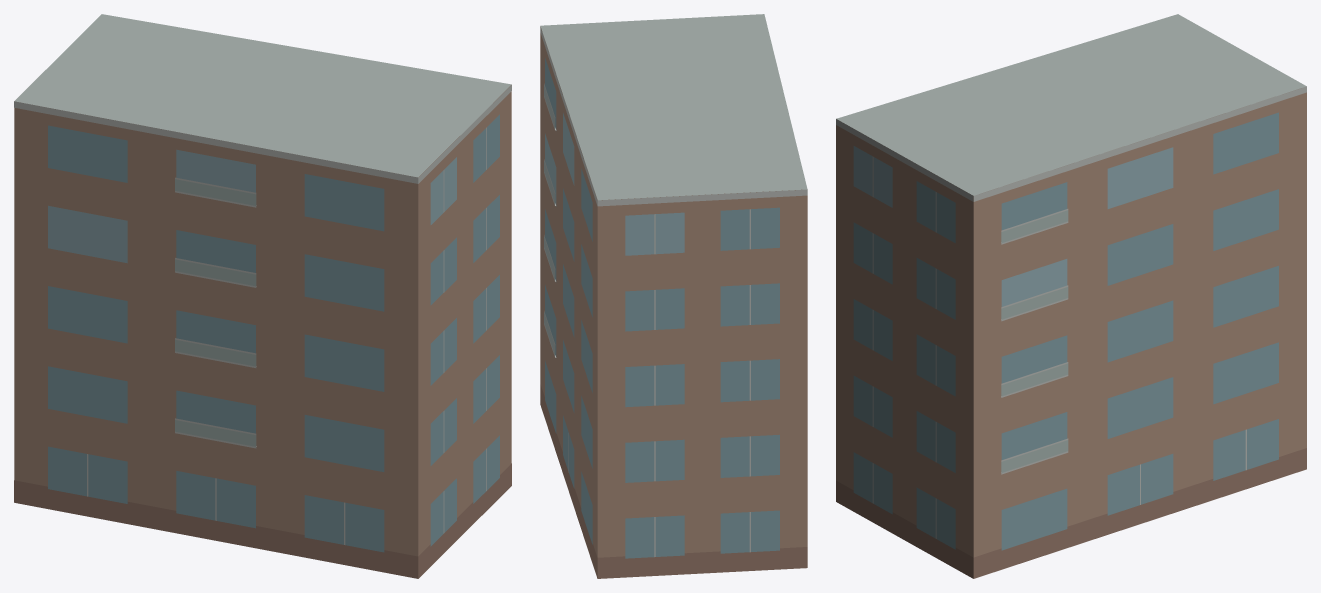
The model's file is survey-upis-33037218.glb.
The picture shows the model from 3 angles, left to right: view 1: azimuth 30°, elevation 25°; view 2: azimuth 150°, elevation 25°; view 3: azimuth 270°, elevation 25°; orthographic projection. The views are drawn at different scales.
Visible parts, largest first — view 1: survey-upis-33037218.tmp; view 2: survey-upis-33037218.tmp; view 3: survey-upis-33037218.tmp.
Boxes of the visible parts, bbox=[...] form: survey-upis-33037218.tmp: bbox=[14, 14, 511, 578]; survey-upis-33037218.tmp: bbox=[540, 14, 807, 578]; survey-upis-33037218.tmp: bbox=[836, 14, 1306, 578].
Size of the model in its own units: 15.43 by 15.15 by 16.88.
